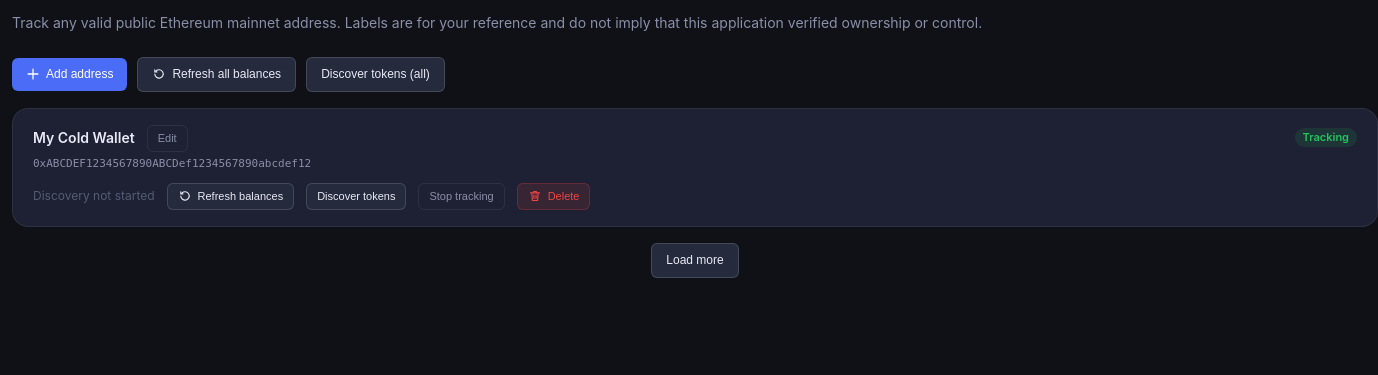
Test: WalletsPage › fetches next page when Load more is clicked
Click the button "Load more". click: (695, 260)
box: [651,243,739,278]
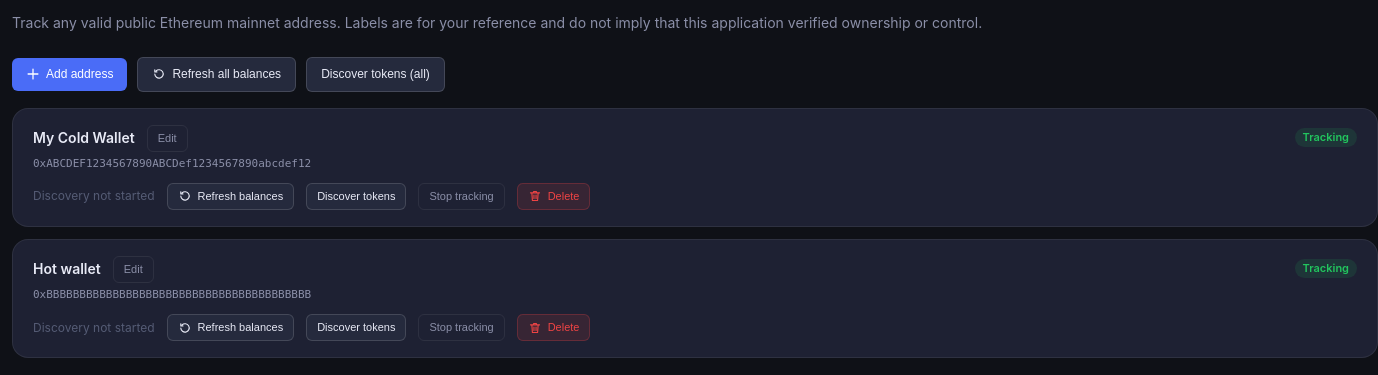
Check: the text "Hot wallet" is shown, box [33,258,101,279]
